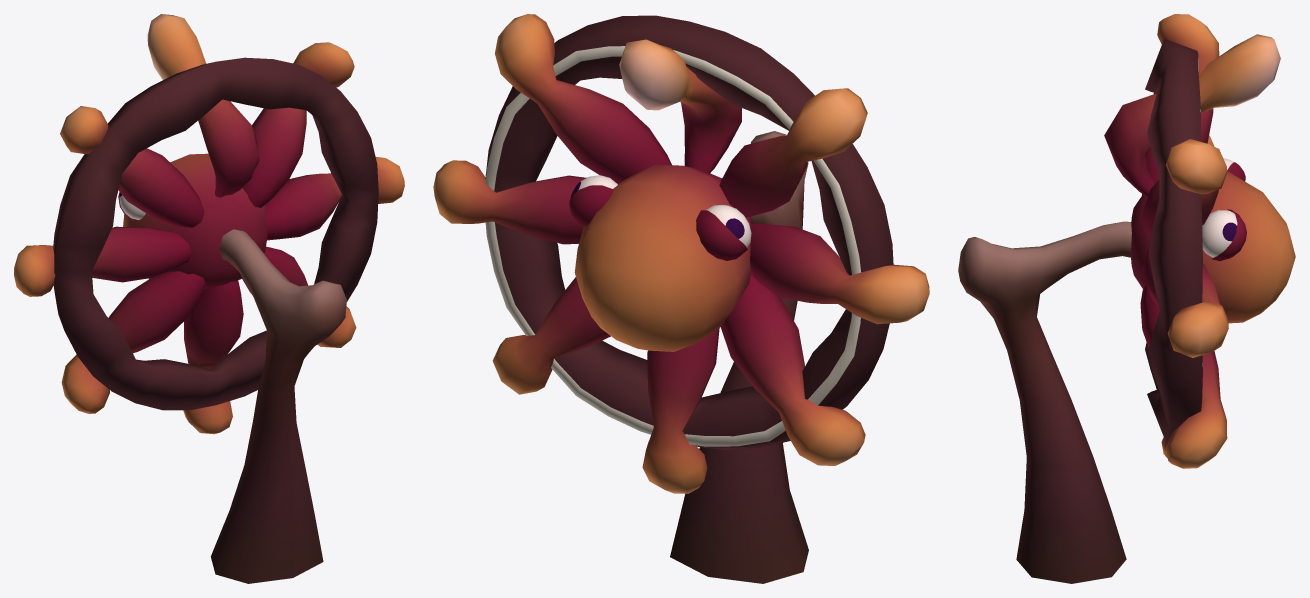
File: recipeWheel1.fbx
3 renders of one model, left to right at view 1: azimuth 30°, elevation 25°; view 2: azimuth 150°, elevation 25°; view 3: azimuth 270°, elevation 25°, orthographic. The views are drawn at different scales.
Parts seen in each view (by area): view 1: recipewheel, recipewheelStand; view 2: recipewheel, recipewheelStand; view 3: recipewheel, recipewheelStand.
Boxes of the visible parts, x1,y1,x2,y2 form: recipewheel: [14, 14, 404, 434]; recipewheelStand: [210, 229, 346, 583]; recipewheel: [433, 14, 929, 493]; recipewheelStand: [670, 131, 808, 583]; recipewheel: [1104, 14, 1295, 468]; recipewheelStand: [958, 221, 1131, 583].
Size of the model in its own units: 1.96 by 2.33 by 1.37.
